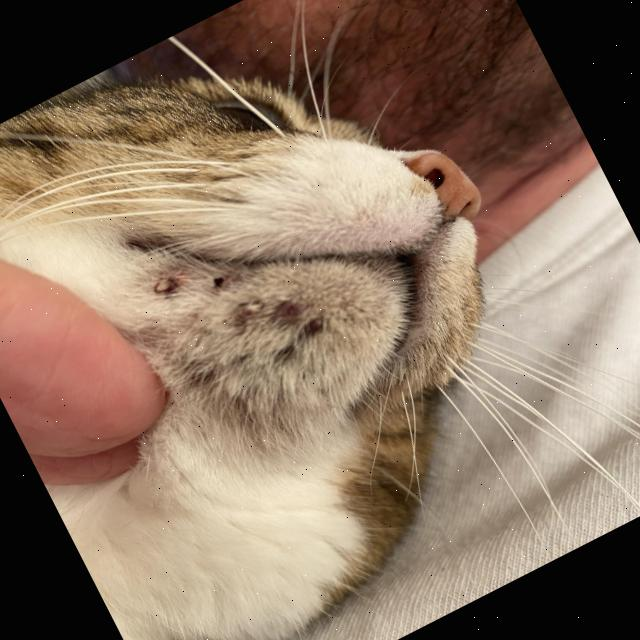cat-dermatitis: (125, 210, 346, 418), (262, 290, 315, 334), (145, 266, 186, 303), (294, 307, 336, 343), (234, 290, 272, 324), (206, 270, 234, 296)
